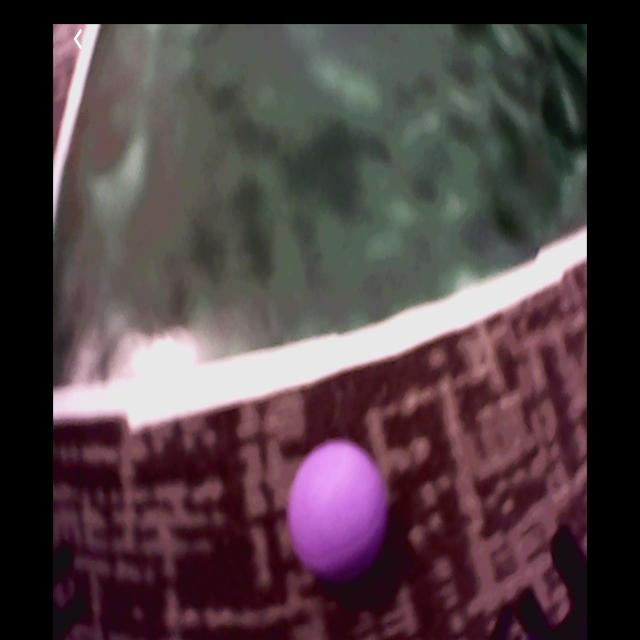ball: (287, 433, 392, 587)
